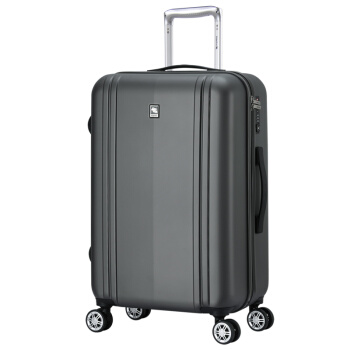suitcase: (85, 5, 275, 344)
